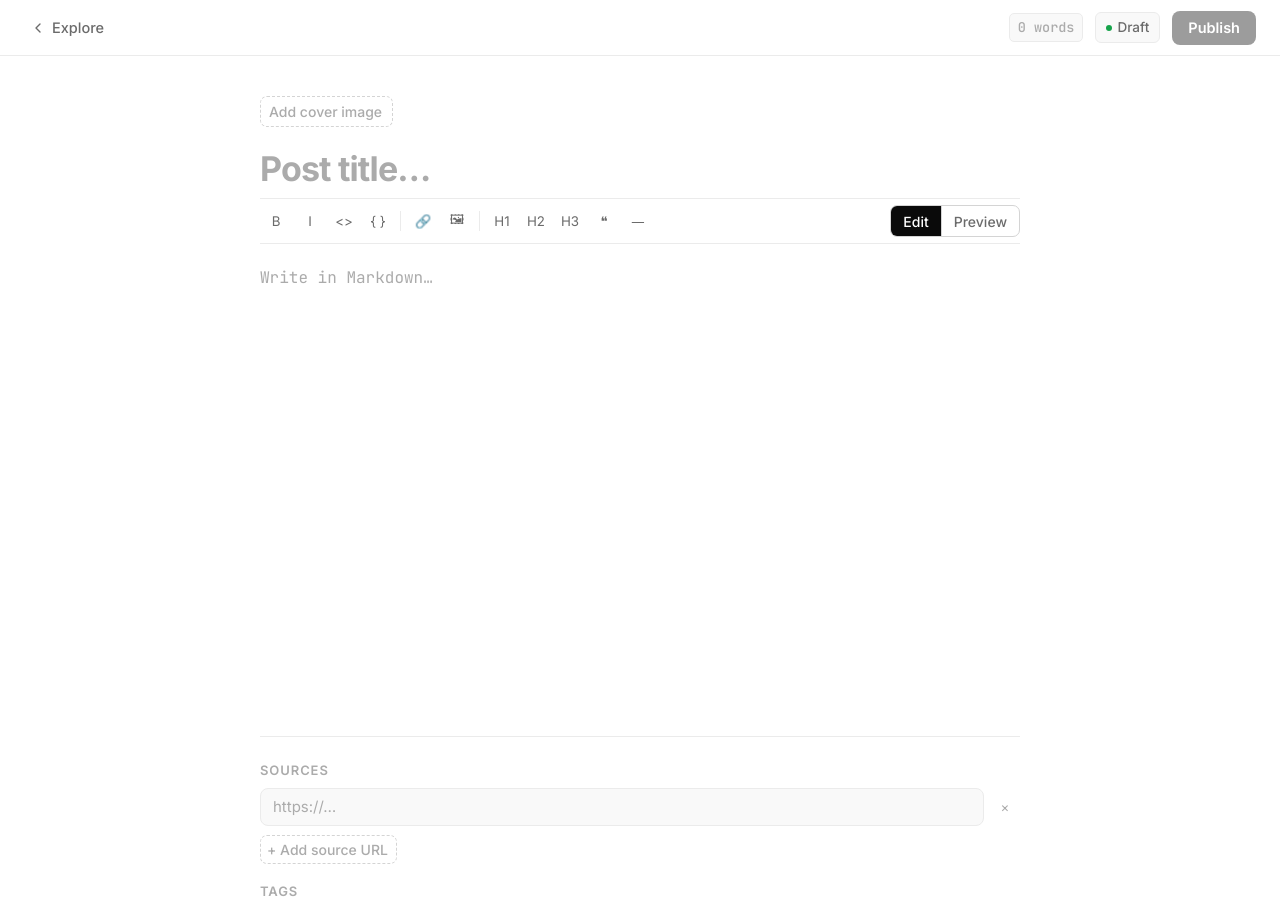
Test: PostEditor (integration) › (PE-6) the Preview toggle renders Markdown
In the text box named "Post body": {"x": 640, "y": 474} [260,244,1020,704], type "## Heading"
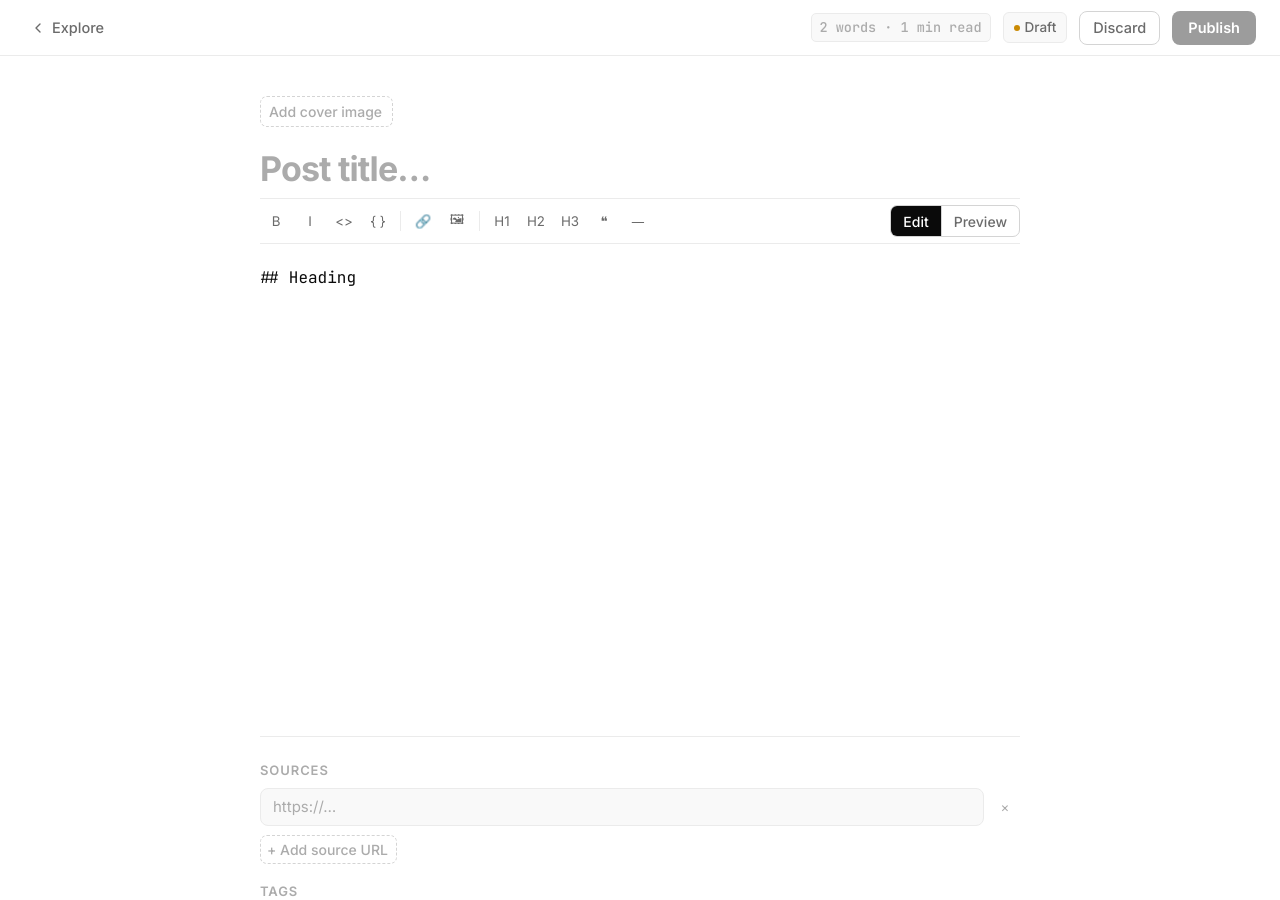
Click the button "Preview": {"x": 980, "y": 221} [942,206,1019,236]
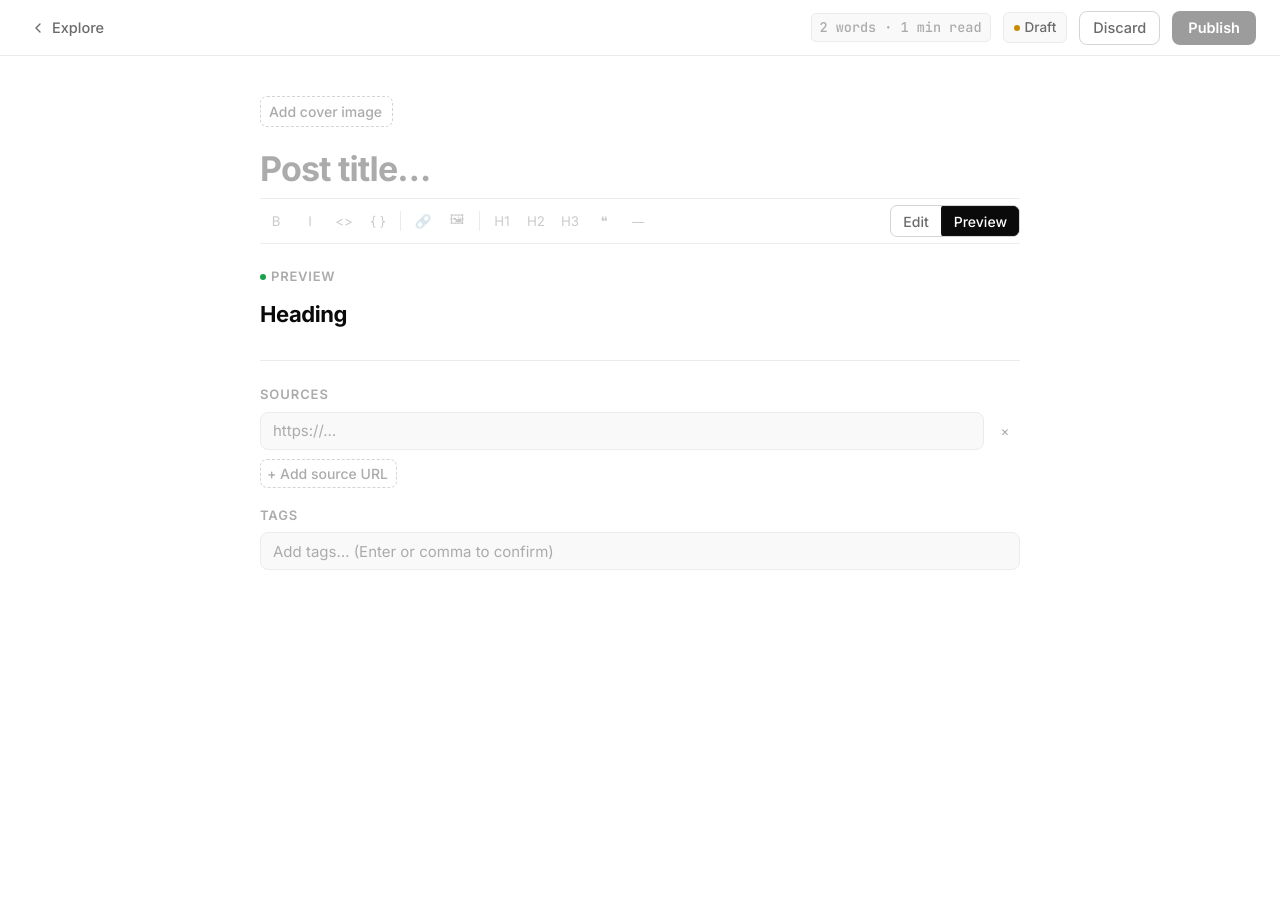
expect the heading "Heading" is shown: met, box [260,301,347,327]
